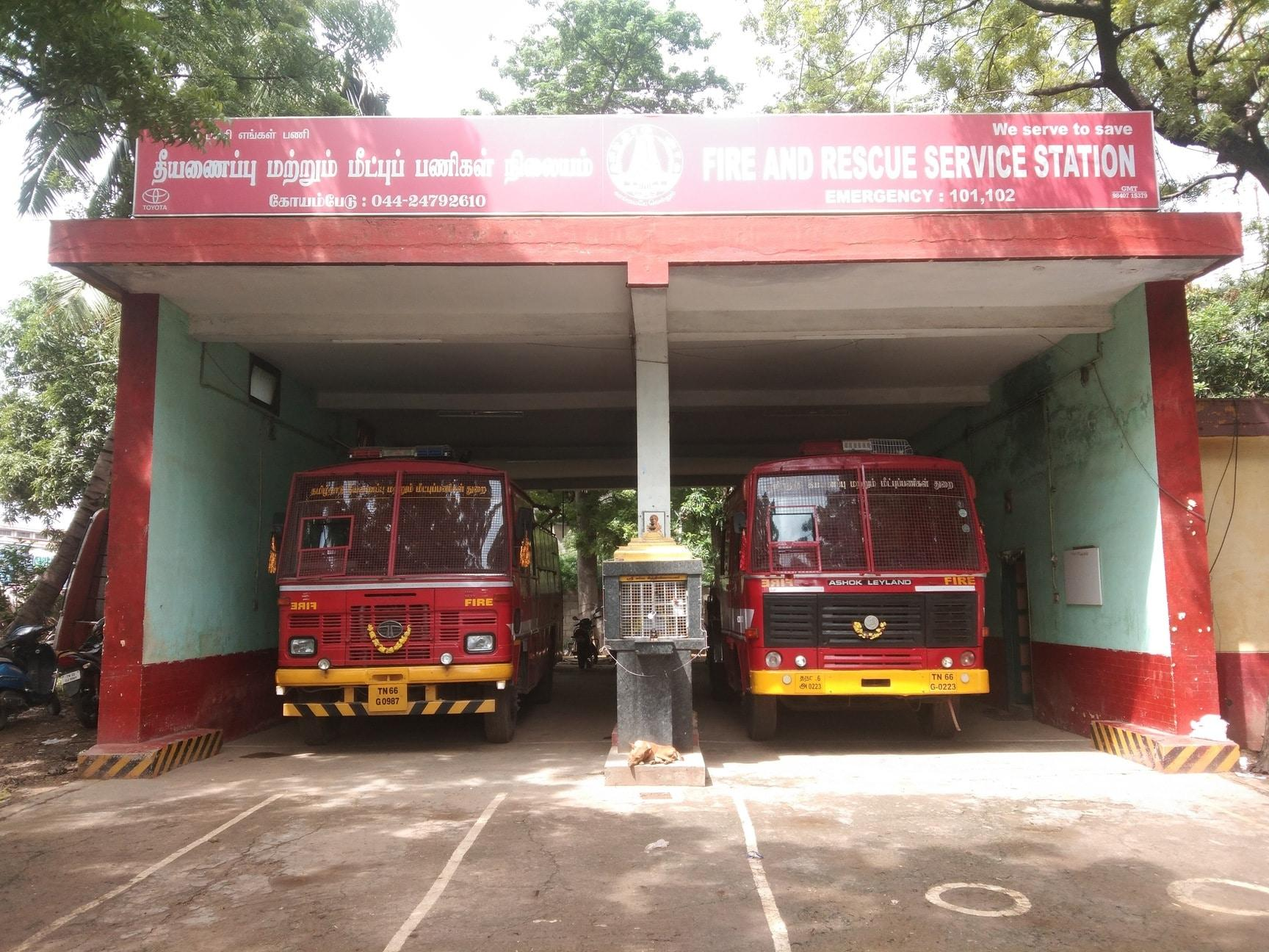Fire-engine: (270, 437, 572, 734), (716, 432, 992, 739)
